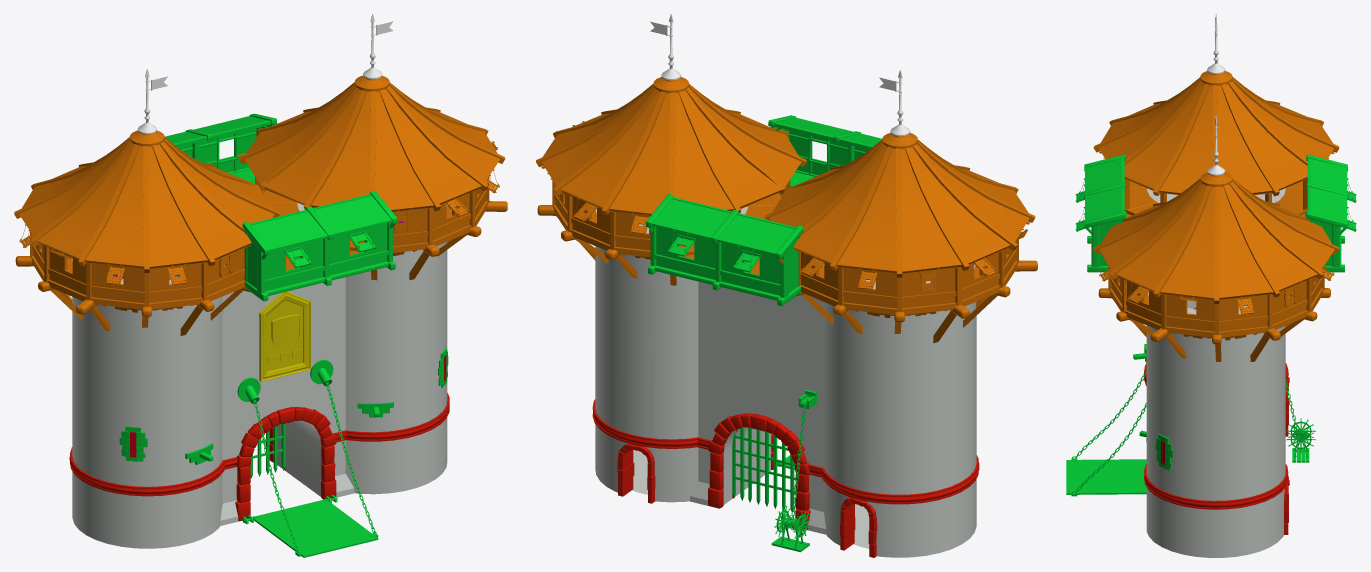
The model's file is Goal_2.fbx.
3 renders of one model, left to right at view 1: azimuth 30°, elevation 25°; view 2: azimuth 150°, elevation 25°; view 3: azimuth 270°, elevation 25°, orthographic. The views are drawn at different scales.
Visible parts, largest first — view 1: a, Group_5.003, a.001, Group_5.005, Group_2.007; view 2: a, Group_5.005, Group_5.010; view 3: a, Group_5.003, Group_5.010, a.001, Group_2.004.
Boxes of the visible parts, x1,y1,x2,y2 form: a: (14,75,507,548); Group_5.003: (242,495,378,557); a.001: (254,382,375,551); Group_5.005: (250,423,285,478); Group_2.007: (119,426,147,461); a: (536,77,1037,557); Group_5.005: (732,427,795,511); Group_5.010: (771,389,816,552); a: (1075,71,1356,557); Group_5.003: (1066,456,1146,496); Group_5.010: (1285,379,1315,462); a.001: (1075,369,1146,492); Group_2.004: (1155,434,1173,470).
Size of the model in its own units: 2240 by 2109 by 1340.
